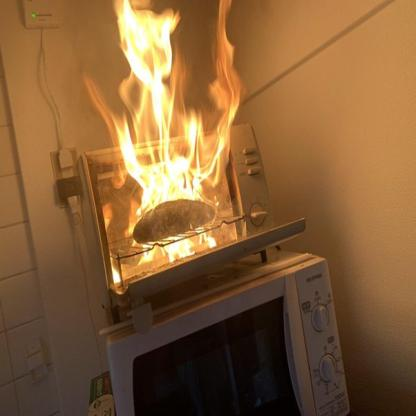fire: (62, 0, 247, 269)
smoke: (157, 0, 214, 97)
